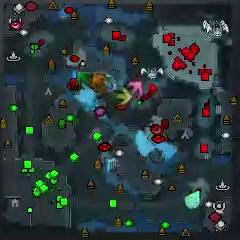p2: (184, 189, 201, 209)
x1: (127, 80, 144, 99)
x2: (114, 88, 133, 106)
x4: (75, 69, 92, 86)
x5: (91, 73, 105, 91)
